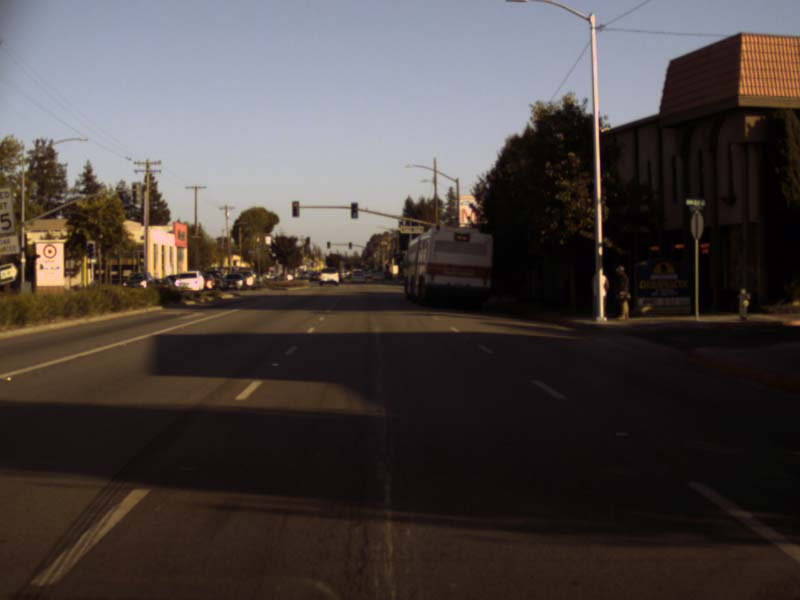Red: (292, 201, 298, 216)
